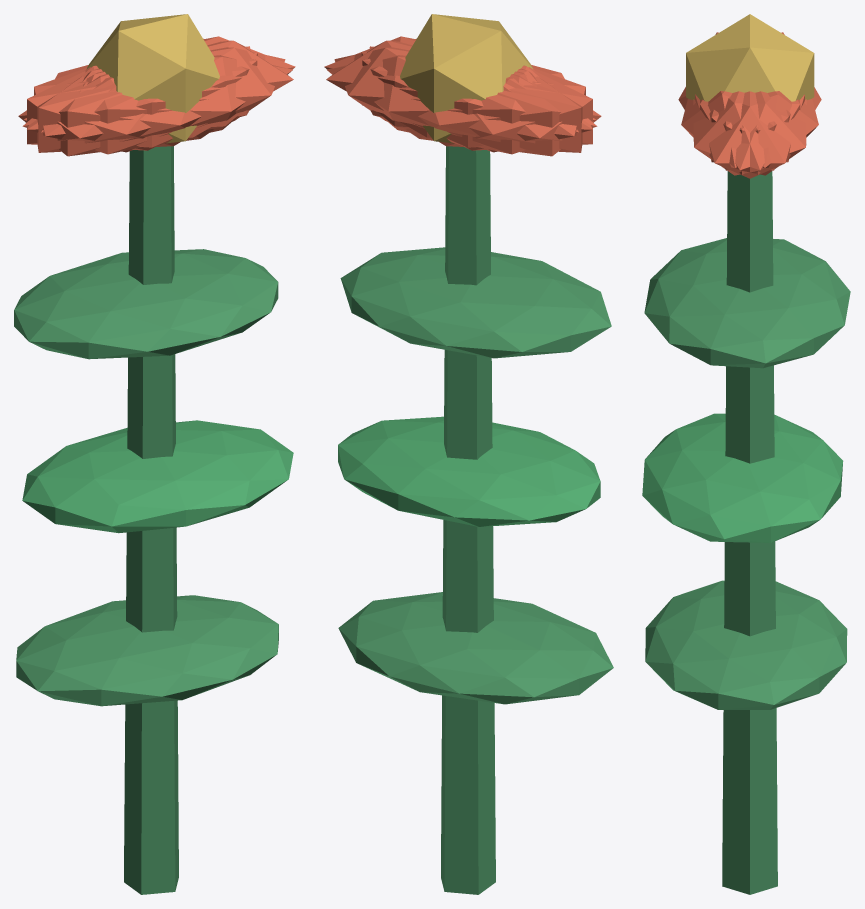
File: ochna-thomasiana.glb
3 renders of one model, left to right at view 1: azimuth 30°, elevation 25°; view 2: azimuth 150°, elevation 25°; view 3: azimuth 270°, elevation 25°, orthographic.
Visible parts, largest first — view 1: stem, leaf1, leaf2, leaf0, center, petal1, petal6, petal2, petal5, petal7, petal0, petal4 (+2 smaller); view 2: stem, leaf2, leaf0, leaf1, center, petal8, petal3, petal7, petal4, petal2, petal0, petal5 (+2 smaller); view 3: stem, leaf2, leaf1, leaf0, center, petal0, petal5, petal4, petal8, petal1.
Boxes of the visible parts, <box> form: stem: <box>124,146,178,894</box>; leaf1: <box>22,420,293,533</box>; leaf2: <box>14,249,278,359</box>; leaf0: <box>16,595,278,706</box>; center: <box>86,14,219,143</box>; petal1: <box>22,55,292,154</box>; petal6: <box>18,67,213,156</box>; petal2: <box>37,46,250,152</box>; petal5: <box>41,47,285,147</box>; petal7: <box>27,52,257,150</box>; petal0: <box>86,40,293,137</box>; petal4: <box>24,36,295,129</box>; stem: <box>441,146,495,894</box>; leaf2: <box>340,247,611,358</box>; leaf0: <box>338,592,613,704</box>; leaf1: <box>338,416,600,526</box>; center: <box>400,14,532,143</box>; petal8: <box>327,55,597,154</box>; petal3: <box>405,67,601,156</box>; petal7: <box>369,46,582,152</box>; petal4: <box>334,47,578,147</box>; petal2: <box>361,52,592,150</box>; petal0: <box>326,40,533,137</box>; petal5: <box>324,36,595,129</box>; stem: <box>722,171,777,894</box>; leaf2: <box>644,238,850,368</box>; leaf1: <box>642,413,843,542</box>; leaf0: <box>645,580,847,709</box>; center: <box>686,14,814,101</box>; petal0: <box>695,91,804,178</box>; petal5: <box>693,91,800,175</box>; petal4: <box>700,91,806,175</box>; petal8: <box>709,91,818,167</box>; petal1: <box>681,91,790,167</box>.
Size of the model in its own units: 0.1485 by 0.4487 by 0.0995.
